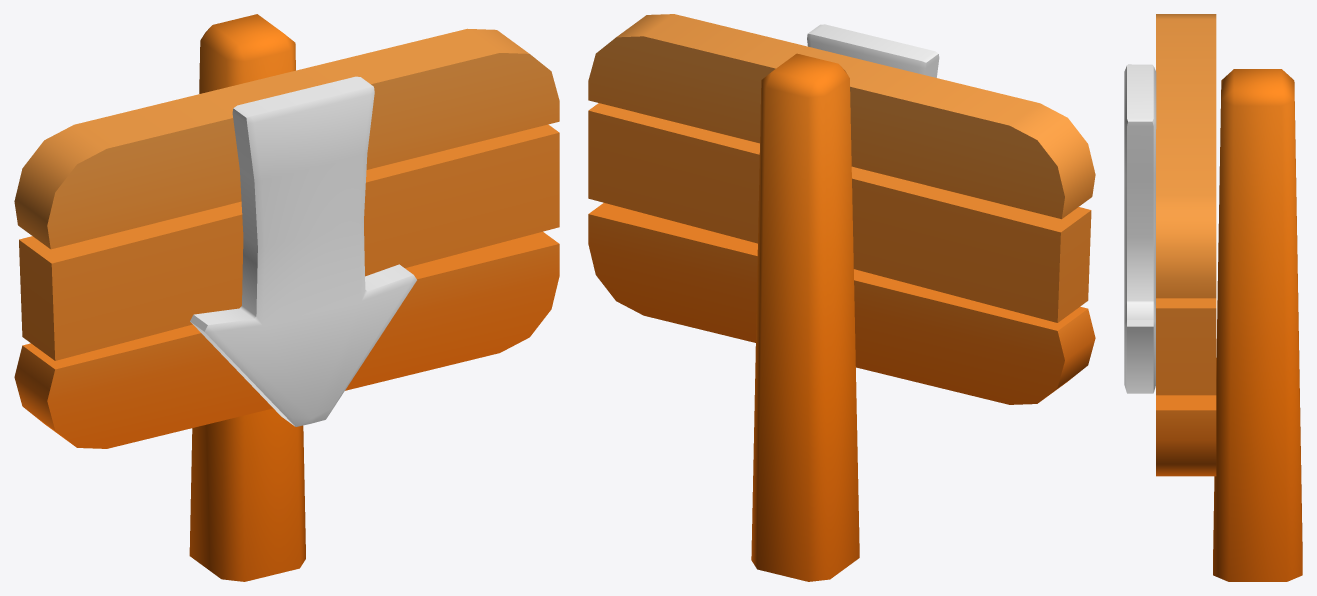
Rendered from Props_Wooden_Sign_04.glb.
3 renders of one model, left to right at view 1: azimuth 30°, elevation 25°; view 2: azimuth 150°, elevation 25°; view 3: azimuth 270°, elevation 25°, orthographic. The views are drawn at different scales.
Visible parts, largest first — view 1: Props_Wooden_Sign_04; view 2: Props_Wooden_Sign_04; view 3: Props_Wooden_Sign_04.
Part boxes in pixels (x1=…): Props_Wooden_Sign_04: x1=14, y1=14, x2=559, y2=581; Props_Wooden_Sign_04: x1=588, y1=14, x2=1095, y2=581; Props_Wooden_Sign_04: x1=1124, y1=14, x2=1302, y2=581.
Bounding box in the file's own units: 0.9011 × 0.888 × 0.2965.
Materials: 1 (1 with a texture image).
